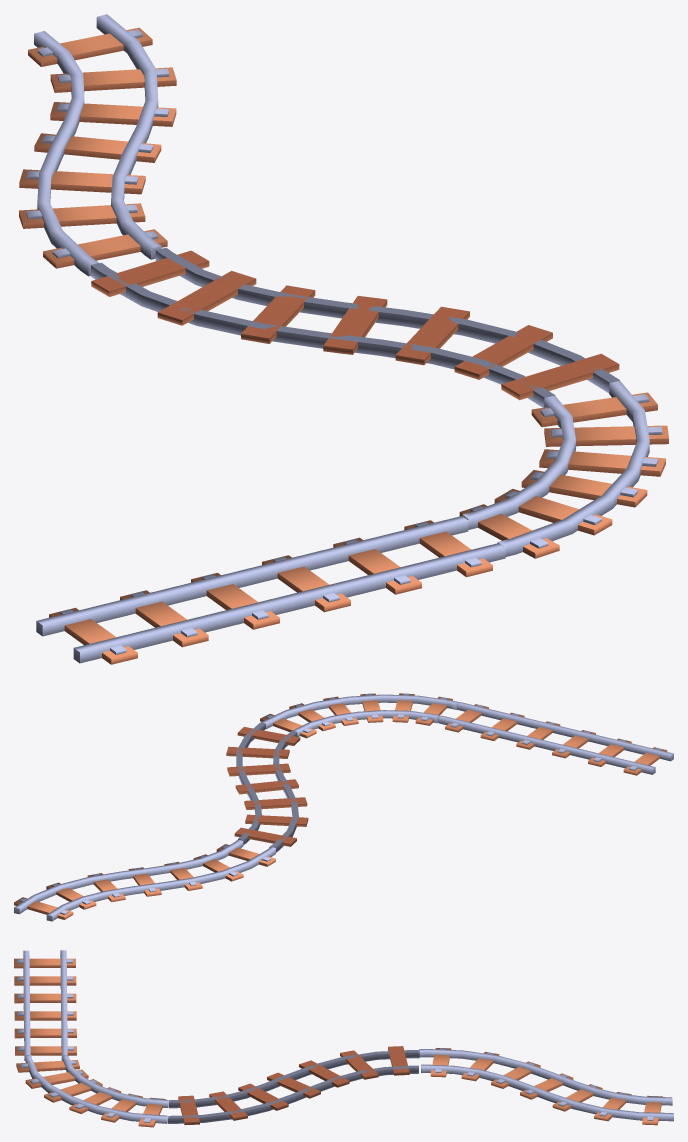
File: traintest1.glb
The picture shows the model from 3 angles, top to bottom: view 1: azimuth 30°, elevation 25°; view 2: azimuth 150°, elevation 25°; view 3: azimuth 270°, elevation 25°; orthographic projection. The views are drawn at different scales.
Visible parts, largest first — view 1: railroad-curve.003, railroad-straight.003, railroad-curve.009, railroad-corner-small.005; view 2: railroad-curve.009, railroad-straight.003, railroad-curve.003, railroad-corner-small.005; view 3: railroad-curve.009, railroad-curve.003, railroad-corner-small.005, railroad-straight.003.
Boxes of the visible parts, x1=… form: railroad-curve.003: x1=91, y1=247, x2=619, y2=407; railroad-straight.003: x1=36, y1=516, x2=505, y2=664; railroad-curve.009: x1=19, y1=14, x2=176, y2=276; railroad-corner-small.005: x1=459, y1=380, x2=668, y2=558; railroad-curve.009: x1=14, y1=839, x2=275, y2=921; railroad-straight.003: x1=438, y1=702, x2=673, y2=775; railroad-curve.003: x1=226, y1=723, x2=308, y2=852; railroad-corner-small.005: x1=260, y1=693, x2=459, y2=738; railroad-curve.009: x1=419, y1=1048, x2=673, y2=1125; railroad-curve.003: x1=168, y1=1046, x2=419, y2=1125; railroad-corner-small.005: x1=16, y1=1055, x2=168, y2=1127; railroad-straight.003: x1=14, y1=950, x2=76, y2=1060.
Bounding box in the file's own units: 6.56 × 0.1069 × 10.64.
3 materials, 3 textured.
